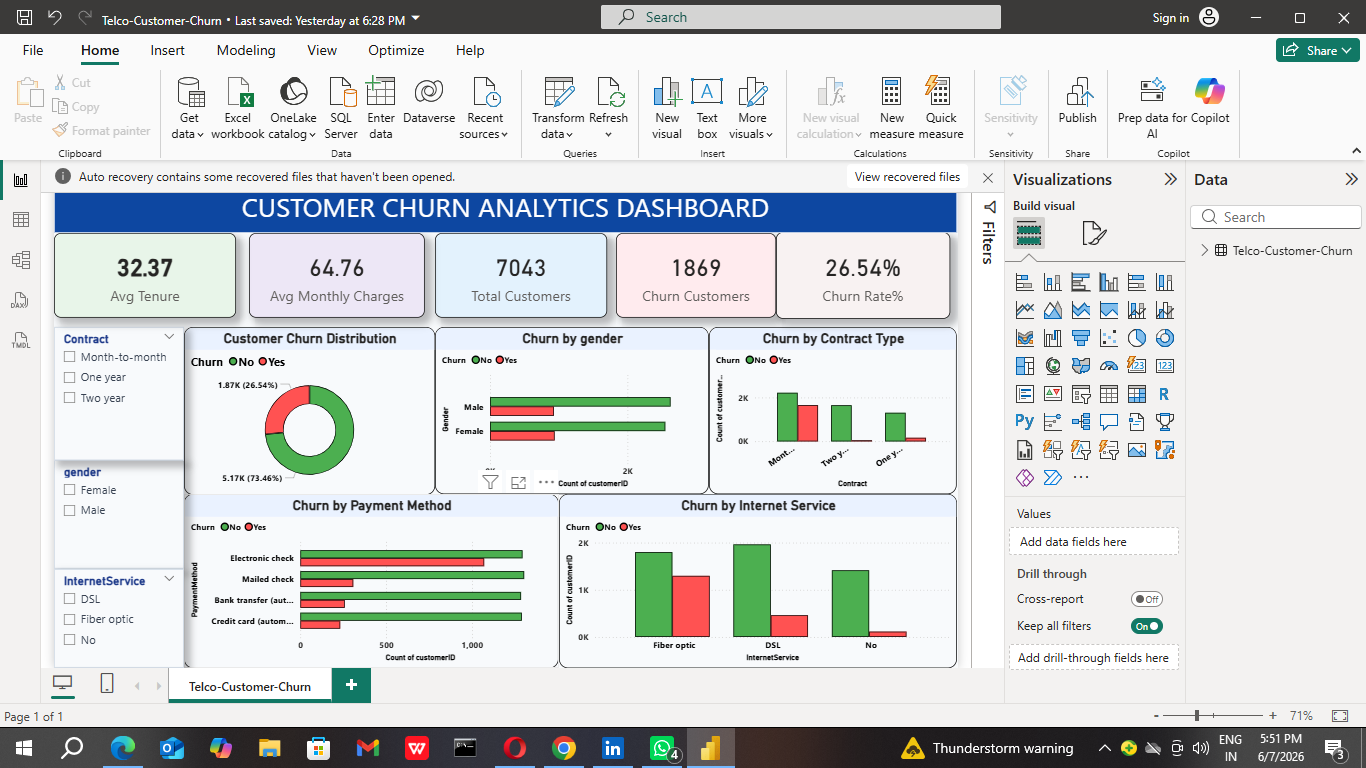

Layout of this report page (visuals, bound fields, positions):
{"tool":"powerbi","page":{"name":"Telco-Customer-Churn","canvas":[1280,720],"ordinal":0},"visuals":[{"type":"card","fields":{"Values":["Telco-Customer-Churn.Total Customers"]},"box":[540,103.5,243.8,120.5],"z":0},{"type":"card","fields":{"Values":["Telco-Customer-Churn.Churn Customers"]},"box":[796.5,103.5,226.8,120.5],"z":1000},{"type":"donutChart","title":"Customer Churn Distribution","fields":{"Category":["Telco-Customer-Churn.Churn"],"Y":["CountNonNull(Telco-Customer-Churn.customerID)"]},"box":[168.7,236.7,371.3,238.1],"z":2000},{"type":"clusteredBarChart","title":"Churn by gender ","fields":{"Category":["Telco-Customer-Churn.gender"],"Y":["CountNonNull(Telco-Customer-Churn.customerID)"],"Series":["Telco-Customer-Churn.Churn"]},"box":[540,236.7,388.3,236.7],"z":3000},{"type":"clusteredColumnChart","title":"Churn by Contract Type","fields":{"Category":["Telco-Customer-Churn.Contract"],"Y":["CountNonNull(Telco-Customer-Churn.customerID)"],"Series":["Telco-Customer-Churn.Churn"]},"box":[928.6,237.1,351.4,237.1],"z":4000},{"type":"card","fields":{"Values":["Telco-Customer-Churn.%"]},"box":[1033.2,103.5,246.6,123.3],"z":5000},{"type":"clusteredBarChart","title":"Churn  by Payment Method ","fields":{"Category":["Telco-Customer-Churn.PaymentMethod"],"Y":["CountNonNull(Telco-Customer-Churn.customerID)"],"Series":["Telco-Customer-Churn.Churn"]},"box":[168.7,473.4,547.1,246.6],"z":6000},{"type":"clusteredColumnChart","title":"Churn by Internet Service ","fields":{"Category":["Telco-Customer-Churn.InternetService"],"Y":["CountNonNull(Telco-Customer-Churn.customerID)"],"Series":["Telco-Customer-Churn.Churn"]},"box":[715.7,473.4,564.1,246.6],"z":7000},{"type":"slicer","fields":{"Values":["Telco-Customer-Churn.gender"]},"box":[0,425.2,168.7,154.5],"z":8000},{"type":"slicer","fields":{"Values":["Telco-Customer-Churn.Contract"]},"box":[0,236.7,168.7,188.5],"z":9000},{"type":"slicer","fields":{"Values":["Telco-Customer-Churn.InternetService"]},"box":[0,579.7,168.7,140.3],"z":10000},{"type":"card","fields":{"Values":["Telco-Customer-Churn.Avg Monthly Charges"]},"box":[276.4,103.5,249.4,120.5],"z":11000},{"type":"card","fields":{"Values":["Telco-Customer-Churn.Avg Tenure"]},"box":[0,103.5,258,120.5],"z":12000},{"type":"textbox","box":[0,35.4,1279.8,68],"z":13000}]}

Visuals, with their boxes on the page's 1280x720 design canvas (x1, y1, x2, y2). These are canvas units, not pixel positions in the 1366x768 screenshot, which may show the page scaled, cropped or inside an application window:
card - Telco-Customer-Churn.Total Customers: BBox(540, 104, 784, 224)
card - Telco-Customer-Churn.Churn Customers: BBox(796, 104, 1023, 224)
"Customer Churn Distribution" donutChart: BBox(169, 237, 540, 475)
"Churn by gender " clusteredBarChart: BBox(540, 237, 928, 473)
"Churn by Contract Type" clusteredColumnChart: BBox(929, 237, 1280, 474)
card - Telco-Customer-Churn.%: BBox(1033, 104, 1280, 227)
"Churn  by Payment Method " clusteredBarChart: BBox(169, 473, 716, 720)
"Churn by Internet Service " clusteredColumnChart: BBox(716, 473, 1280, 720)
slicer - Telco-Customer-Churn.gender: BBox(0, 425, 169, 580)
slicer - Telco-Customer-Churn.Contract: BBox(0, 237, 169, 425)
slicer - Telco-Customer-Churn.InternetService: BBox(0, 580, 169, 720)
card - Telco-Customer-Churn.Avg Monthly Charges: BBox(276, 104, 526, 224)
card - Telco-Customer-Churn.Avg Tenure: BBox(0, 104, 258, 224)
textbox: BBox(0, 35, 1280, 103)
